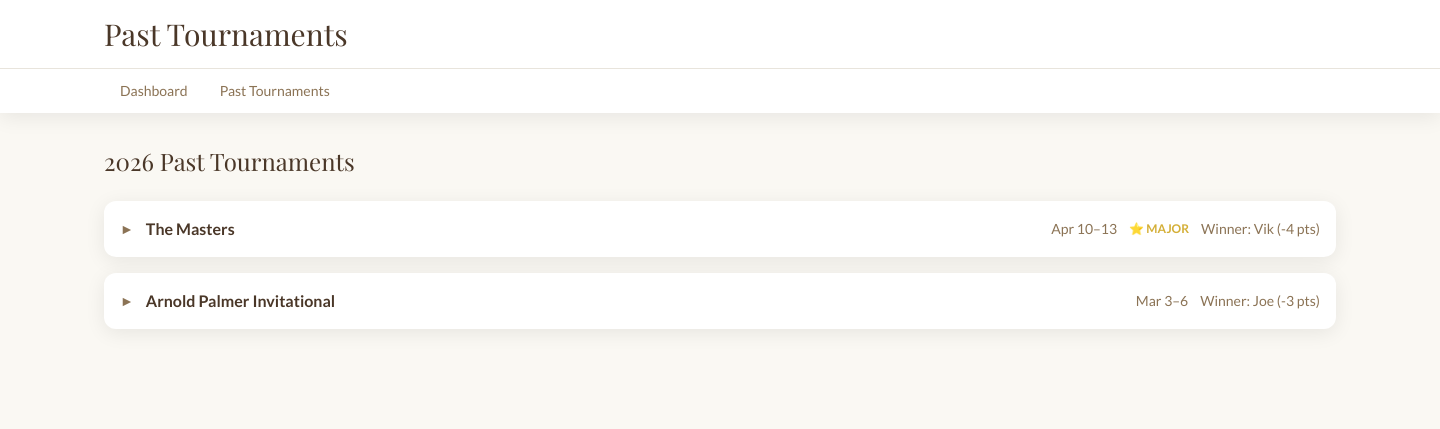
PastTournaments › Accordion Behavior › should show loading state while results are fetching
What coordinates should you click on to do the following:
click the text "The Masters"
I would click on:
 (190, 228)
Its box is x1=146 y1=219 x2=235 y2=238.
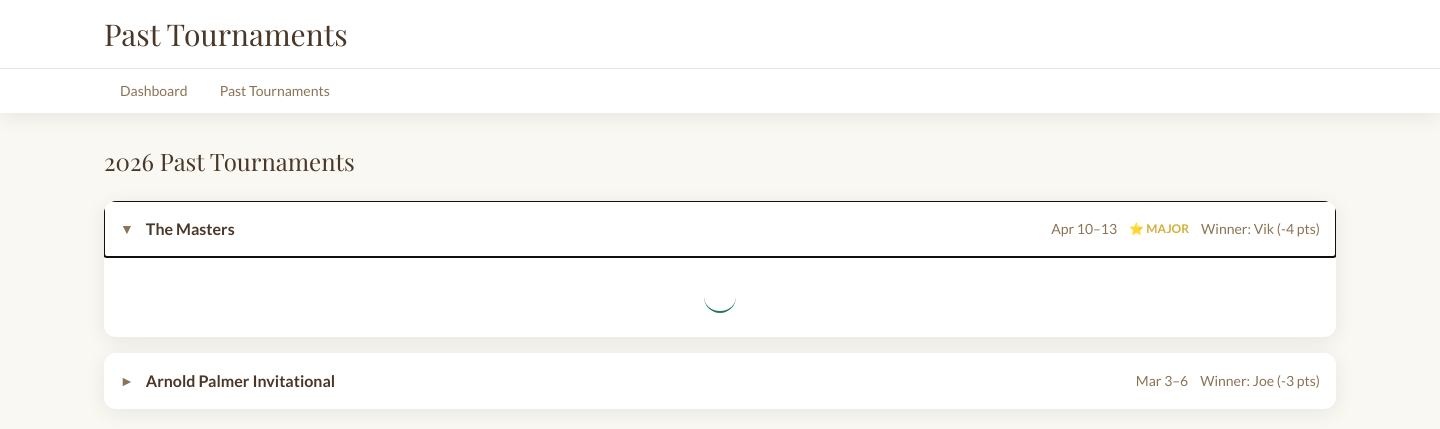
Result: the element with class "animate-spin" is shown at x1=704 y1=281 x2=736 y2=313
